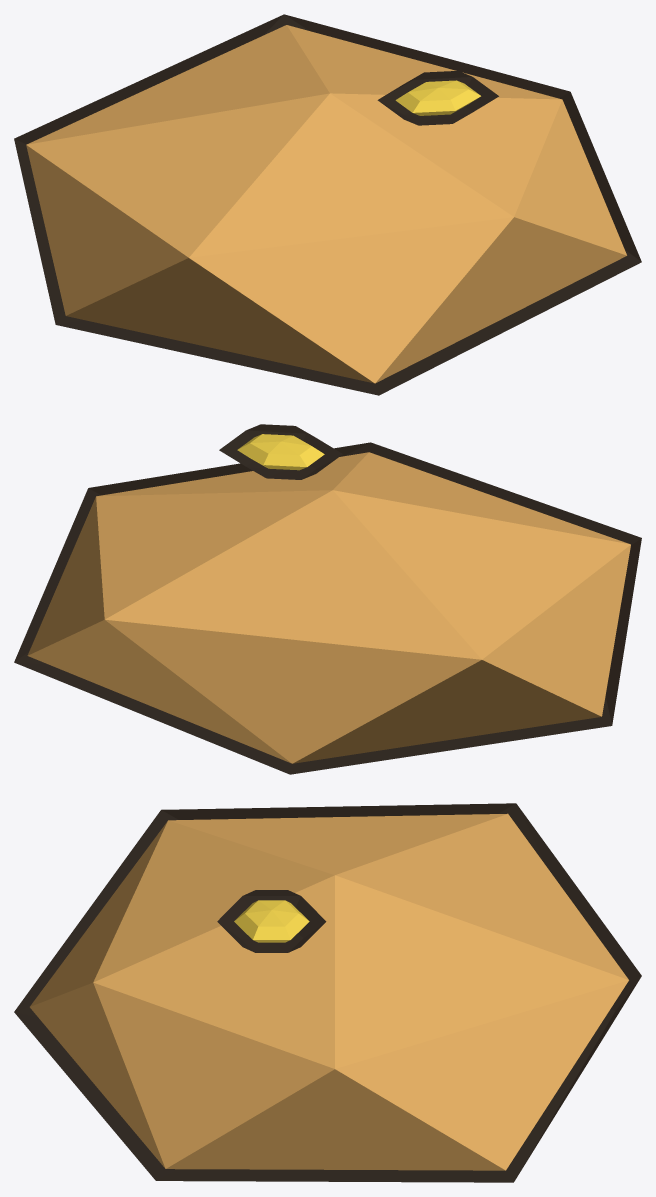
The model's file is sun_stone.glb.
The picture shows the model from 3 angles, top to bottom: view 1: azimuth 30°, elevation 25°; view 2: azimuth 150°, elevation 25°; view 3: azimuth 270°, elevation 25°; orthographic projection. The views are drawn at different scales.
Visible parts, largest first — view 1: OBJ_sun_stone; view 2: OBJ_sun_stone; view 3: OBJ_sun_stone.
Boxes of the visible parts, x1,y1,x2,y2 form: OBJ_sun_stone: [14, 14, 641, 395]; OBJ_sun_stone: [14, 424, 641, 774]; OBJ_sun_stone: [14, 803, 641, 1182].
Size of the model in its own units: 0.5169 by 0.1954 by 0.4965.
